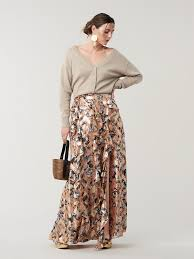C_skirt: (43, 88, 141, 250)
